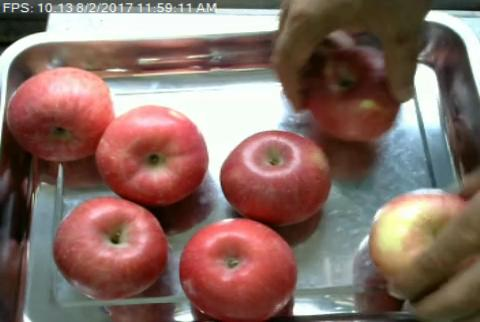apple: (179, 216, 297, 319), (52, 196, 168, 300), (99, 104, 208, 205), (219, 129, 331, 225), (8, 67, 110, 161), (371, 186, 472, 280), (310, 46, 400, 140)
